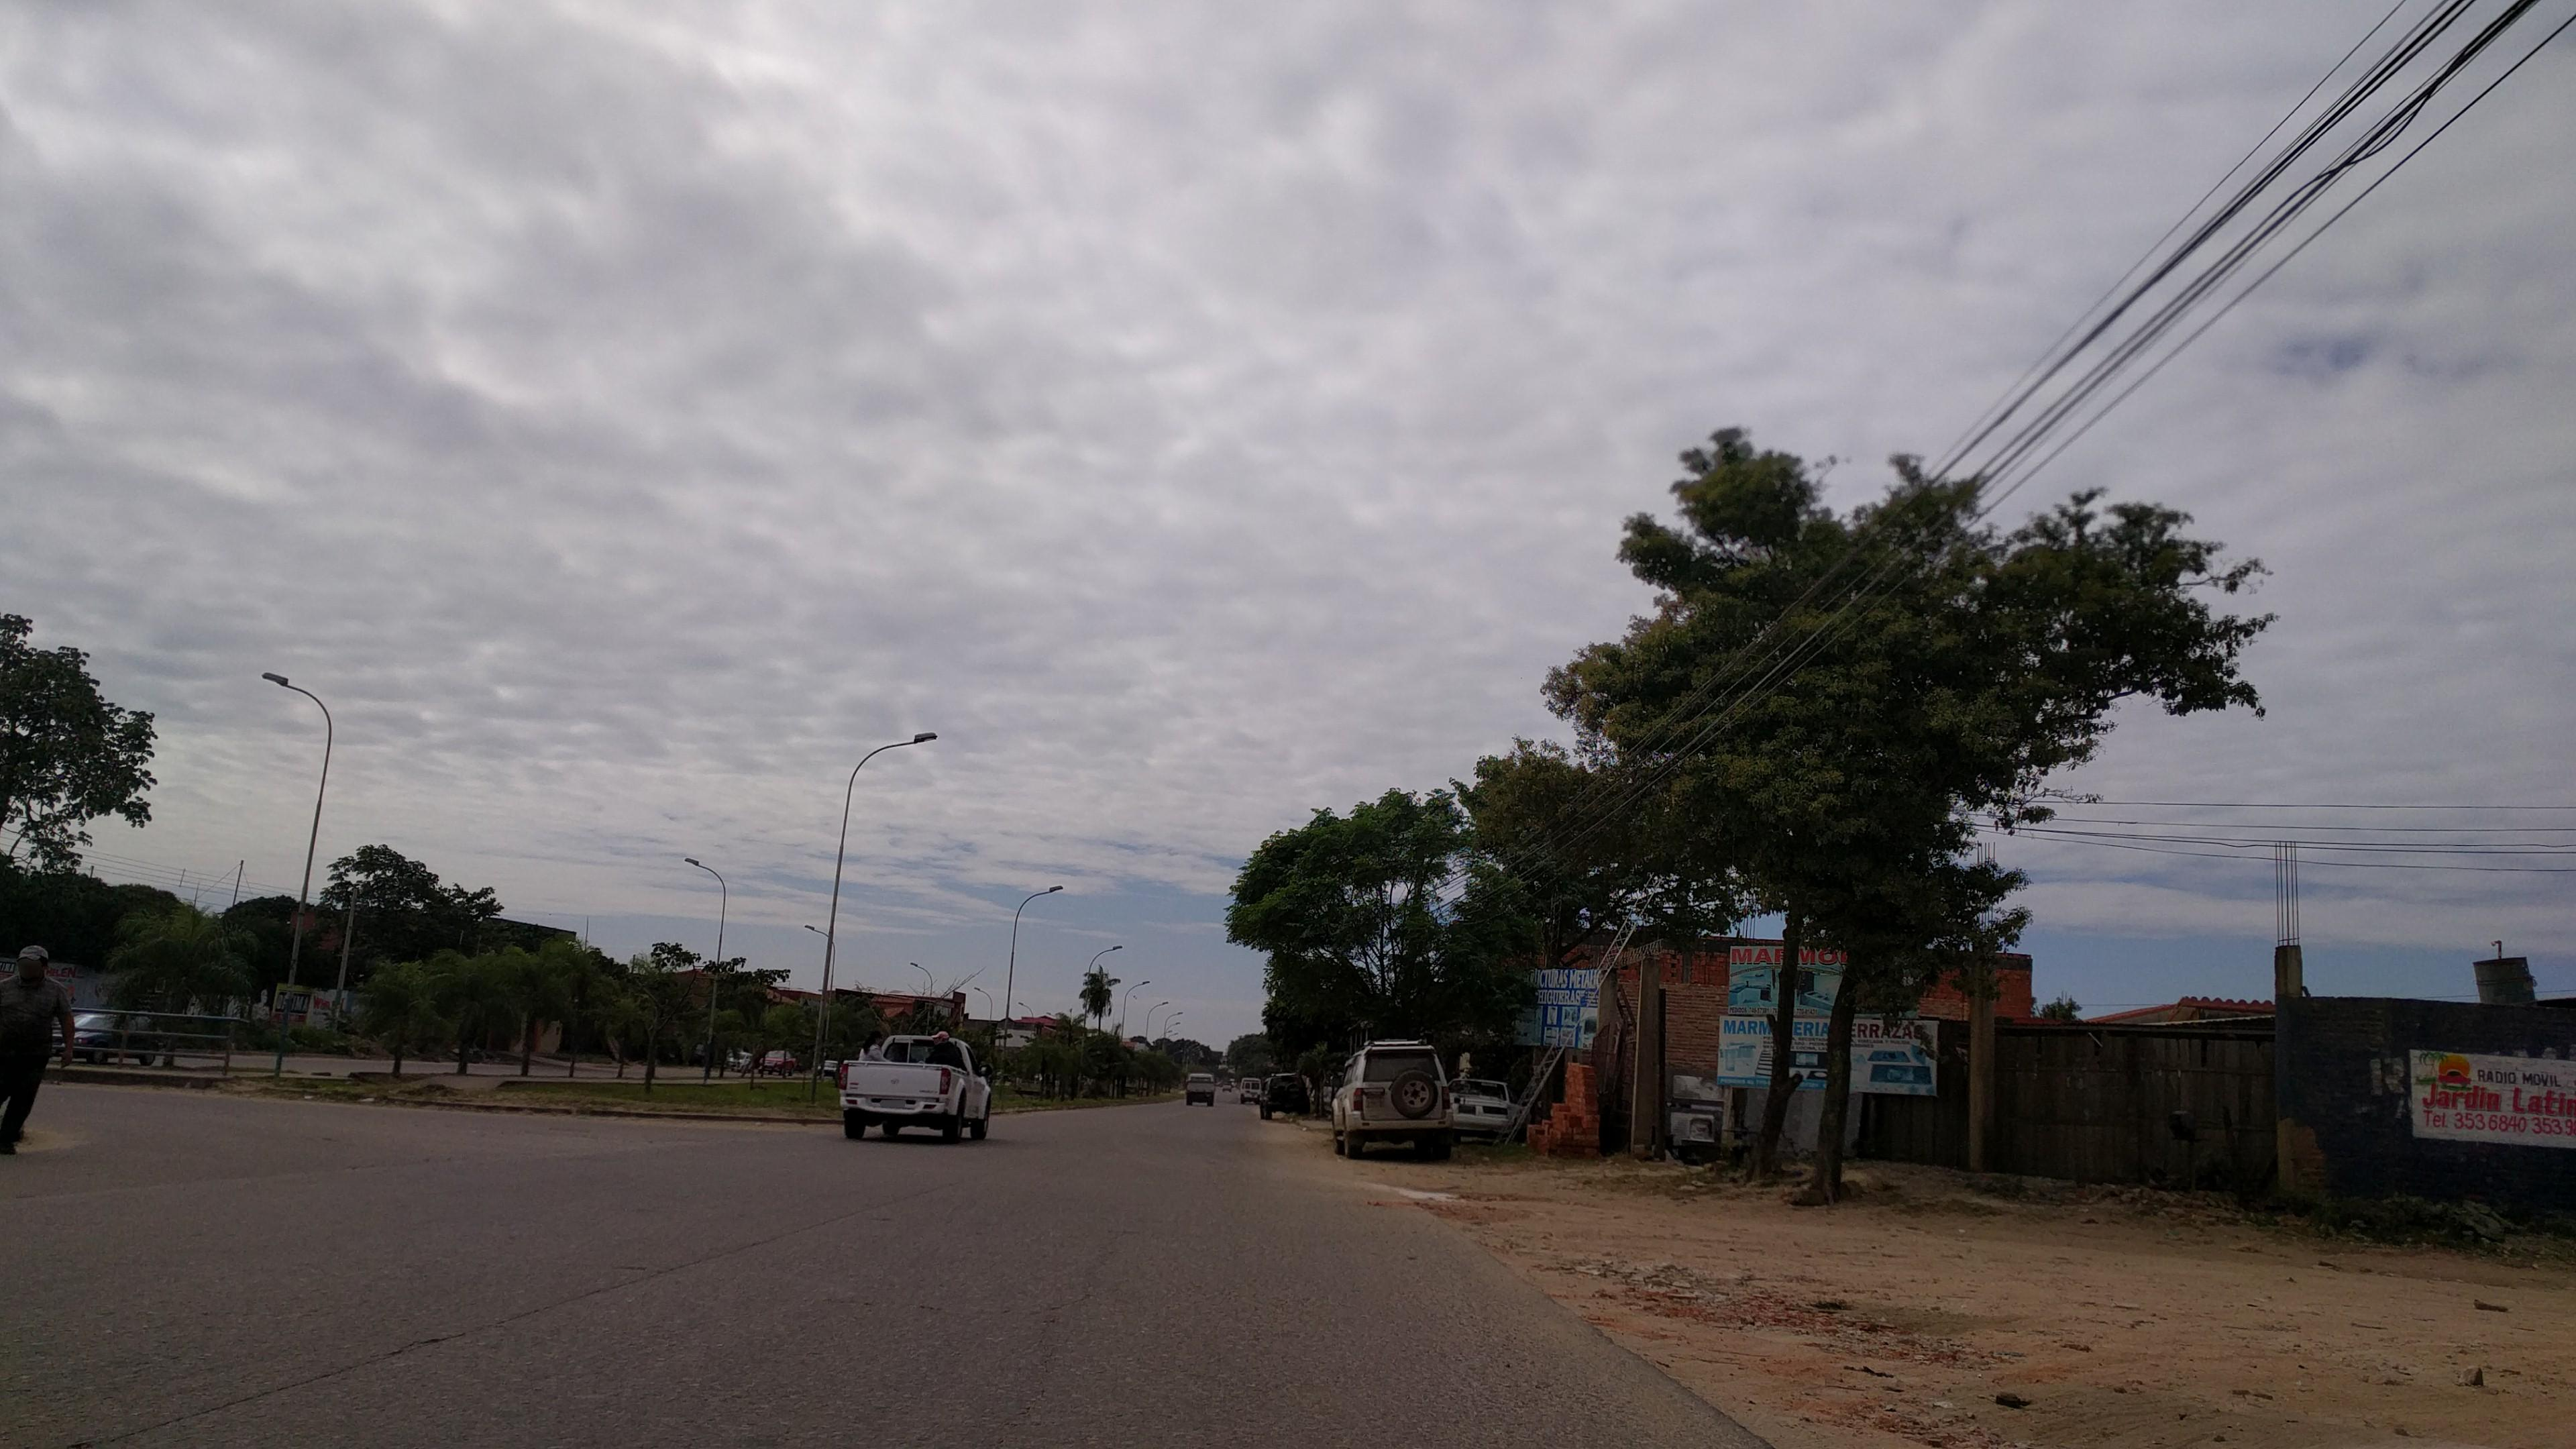vinyl banner: (2365, 1019, 2576, 1168), (1716, 1005, 1951, 1108), (1497, 947, 1629, 1056), (1718, 934, 1863, 1019)
